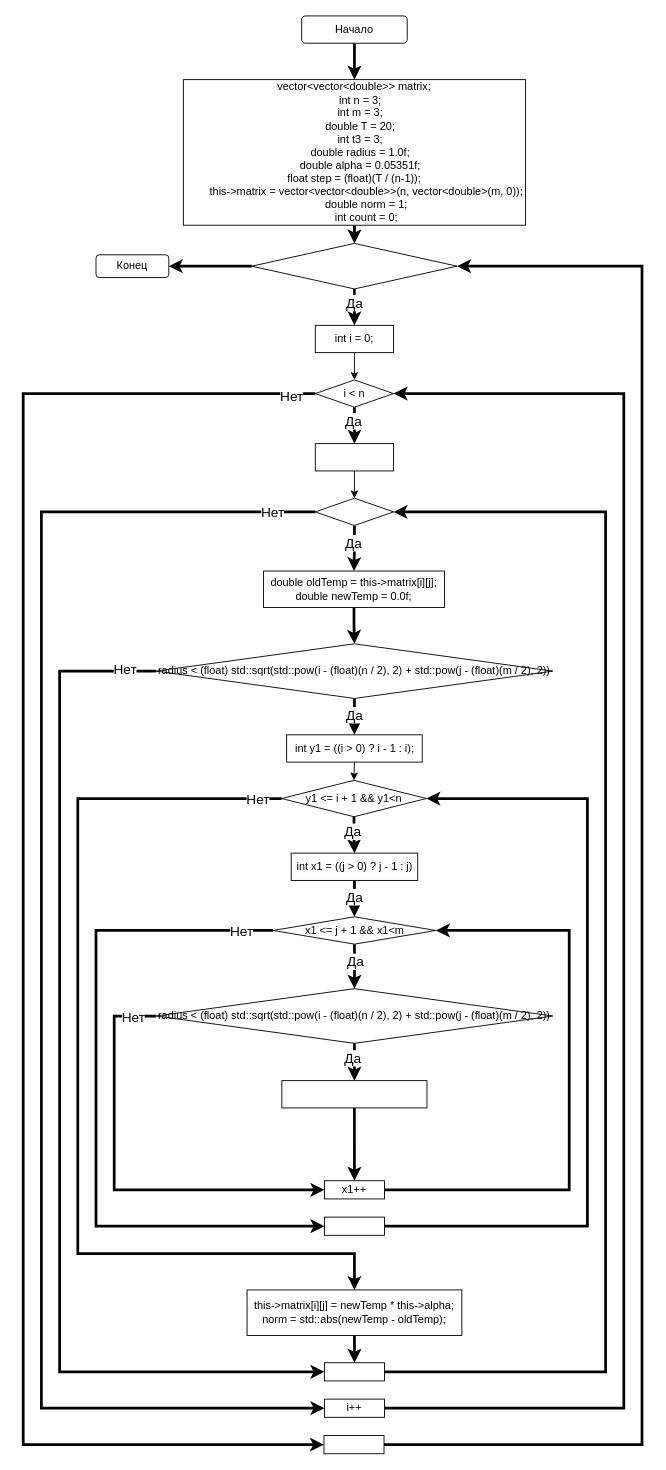
The diagram is 666 pixels wide and 1470 high, and some of its shapes have lost their labels. The shapes that lost their labels are listed below. From the top down, each one's centre as x and y in pixels, then its label:
At point (354, 266): "norm > eps && count < maxIteration".
At point (354, 457): "int j = 0;".
At point (354, 511): "j < m".
At point (354, 1094): "newTemp += matrix[y1][x1];".
At point (354, 1225): "y1++".
At point (354, 1371): "j++".
At point (353, 1444): "count++".
